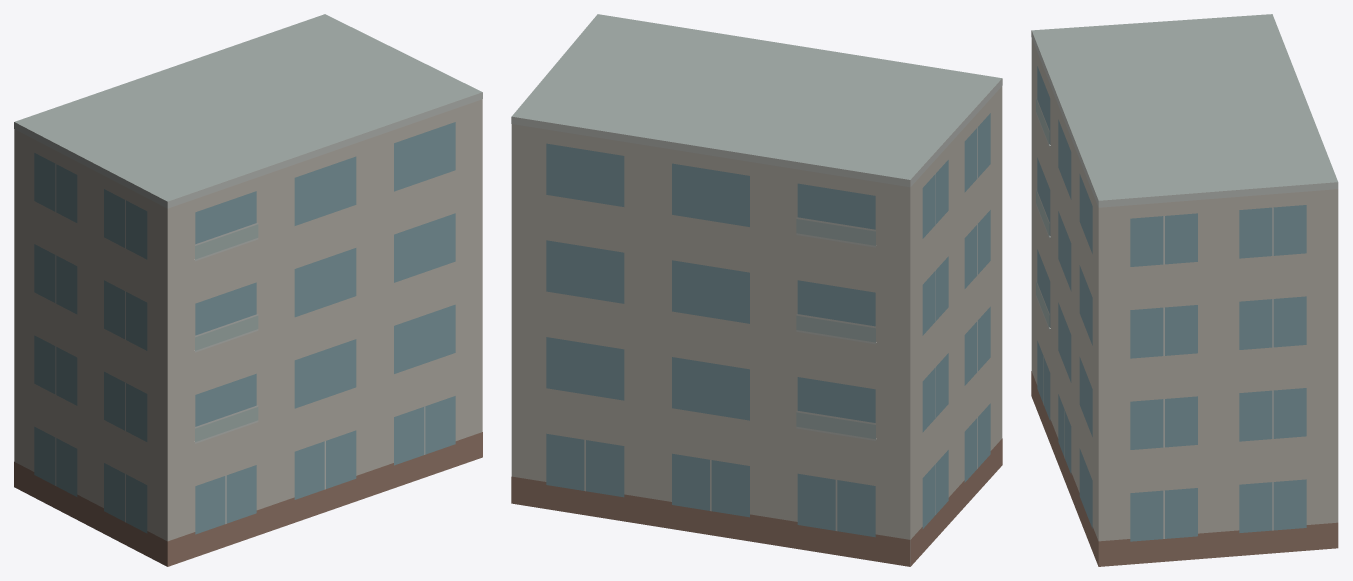
The model's file is survey-upis-32579477.glb.
3 renders of one model, left to right at view 1: azimuth 30°, elevation 25°; view 2: azimuth 150°, elevation 25°; view 3: azimuth 270°, elevation 25°, orthographic. The views are drawn at different scales.
Parts seen in each view (by area): view 1: survey-upis-32579477.tmp; view 2: survey-upis-32579477.tmp; view 3: survey-upis-32579477.tmp.
Boxes of the visible parts, x1,y1,x2,y2 form: survey-upis-32579477.tmp: [14, 14, 482, 566]; survey-upis-32579477.tmp: [511, 14, 1002, 566]; survey-upis-32579477.tmp: [1031, 14, 1338, 566].
Bounding box in the file's own units: 14.02 × 12.8 × 9.73.
